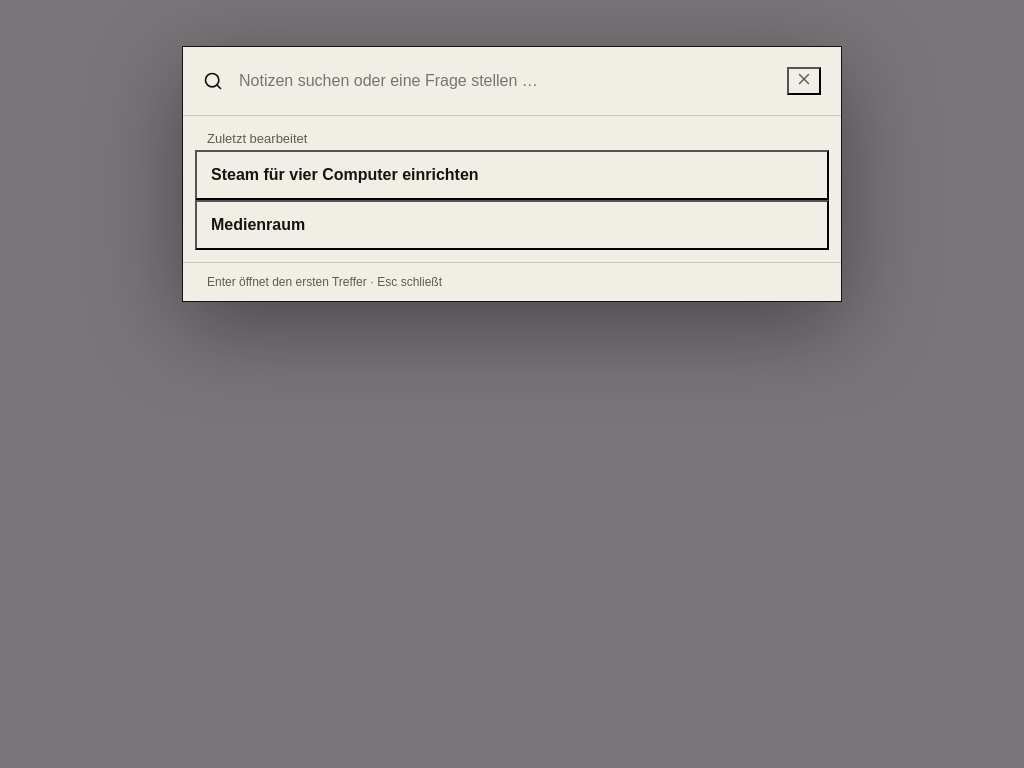
it: adds semantic matches to the same search without duplicating direct matches
The image size is (1024, 768).
In the field: (505, 81) [237,71,773,91], type "Medienraum"
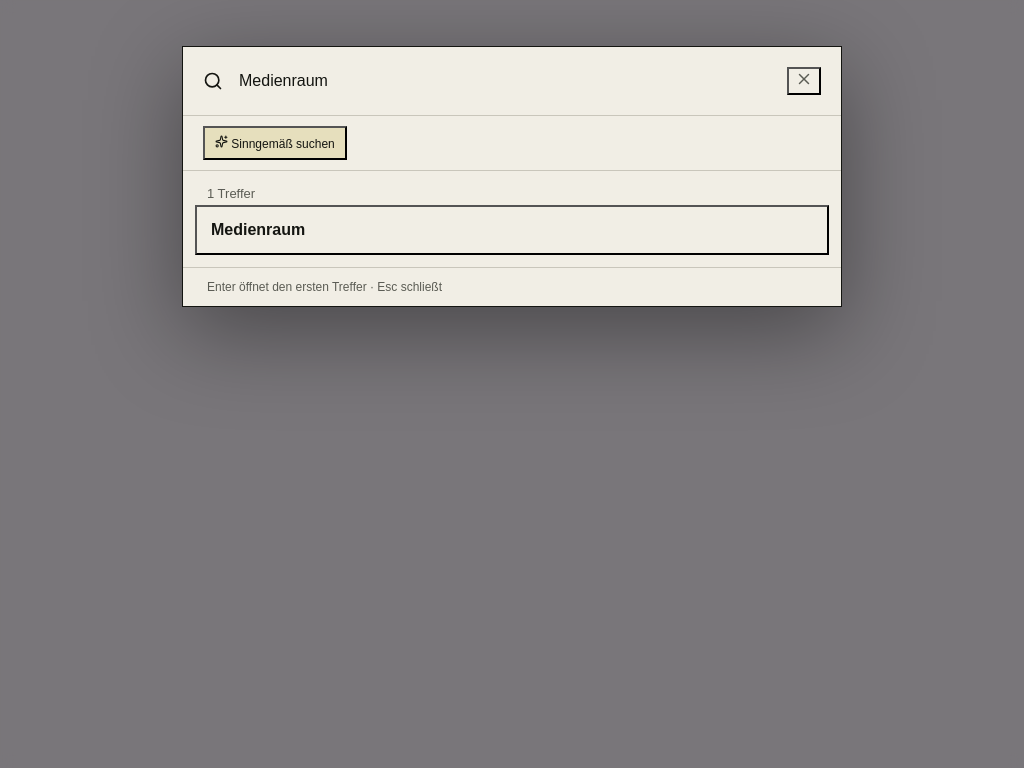
Click the button "Sinngemäß suchen": (275, 143) [203,126,347,160]
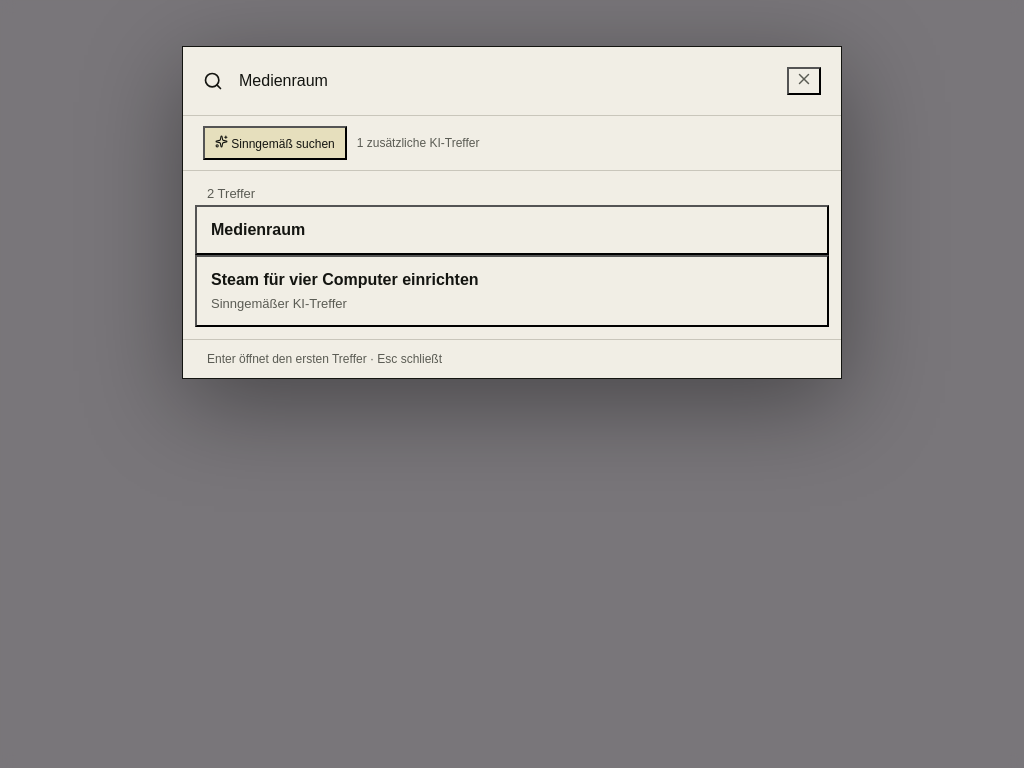
Expected: the text "Sinngemäßer KI-Treffer" is shown, [211,296,347,311]
Expected: the text "2 Treffer" is shown, [207,186,255,201]
Expected: the text "1 zusätzliche KI-Treffer" is shown, [357,136,480,150]
